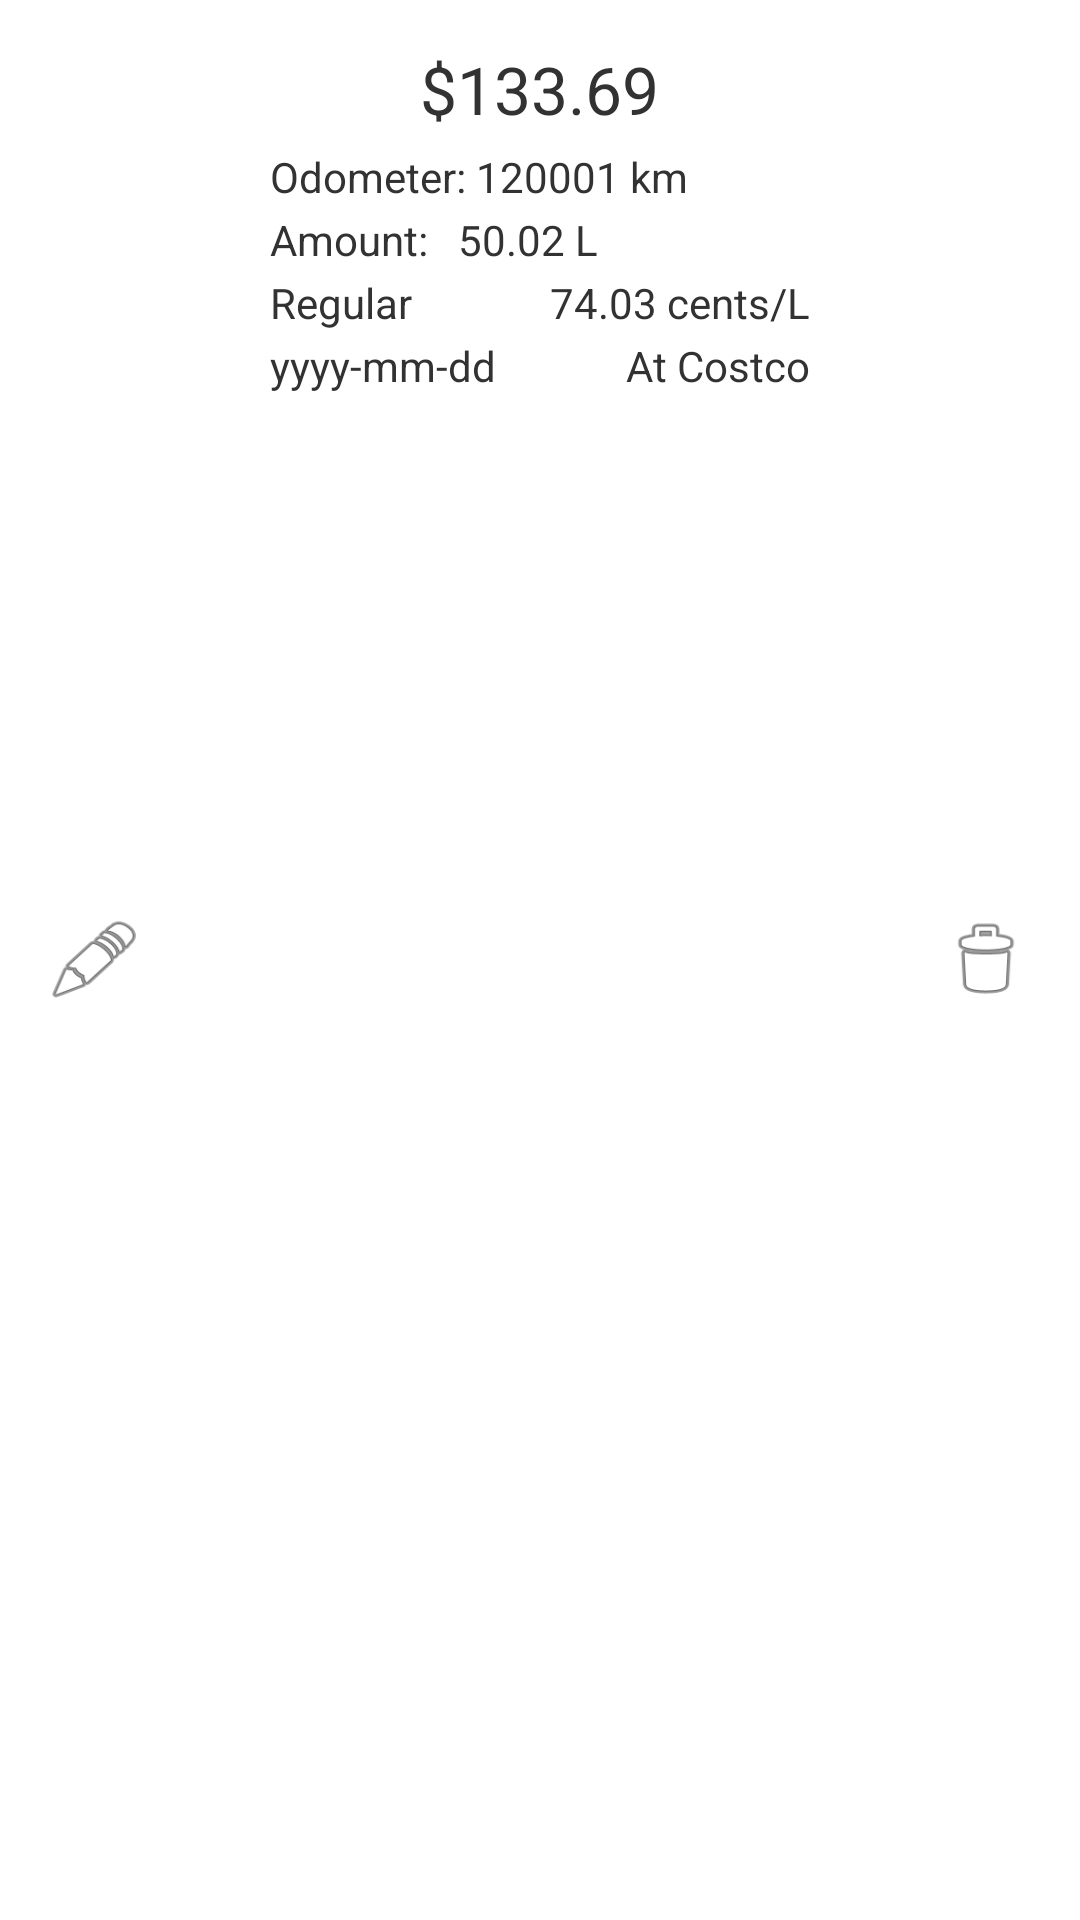

Named icons in this screenshot (1080 × 1920) and their bounding boxes, bbox=[x1, y1, x2, y2]:
delete: bbox=[958, 923, 1014, 994]
edit: bbox=[52, 921, 136, 998]
